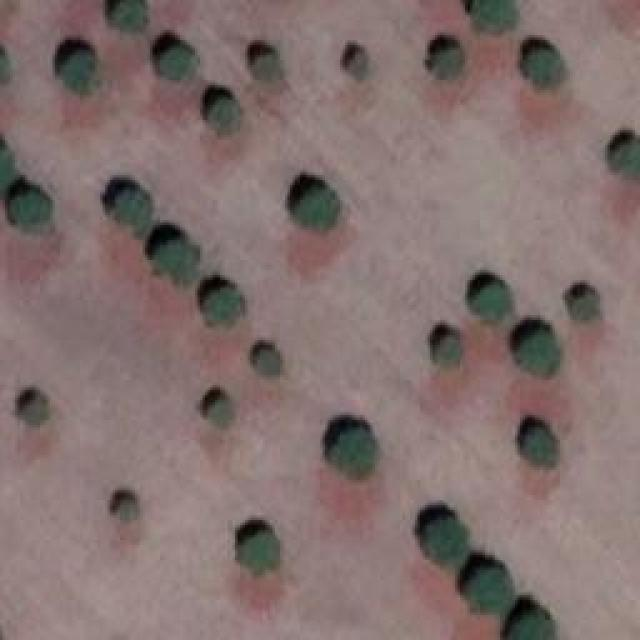Tree: (330, 425, 373, 478), (425, 517, 468, 565), (468, 568, 513, 613), (515, 333, 560, 378), (113, 187, 153, 235), (150, 243, 195, 283), (60, 53, 98, 98), (240, 530, 278, 570), (295, 187, 335, 225), (472, 283, 510, 323), (12, 190, 50, 228), (525, 423, 558, 466), (525, 48, 560, 88), (469, 0, 512, 32), (205, 287, 238, 325), (110, 0, 145, 35), (160, 50, 198, 80), (508, 615, 553, 640), (210, 97, 238, 135), (612, 140, 640, 175), (253, 52, 283, 80), (433, 50, 466, 75), (208, 398, 233, 428), (0, 142, 15, 190), (435, 337, 460, 365), (258, 350, 281, 375), (573, 295, 598, 318), (110, 500, 138, 520), (25, 400, 45, 425), (347, 53, 365, 78)
